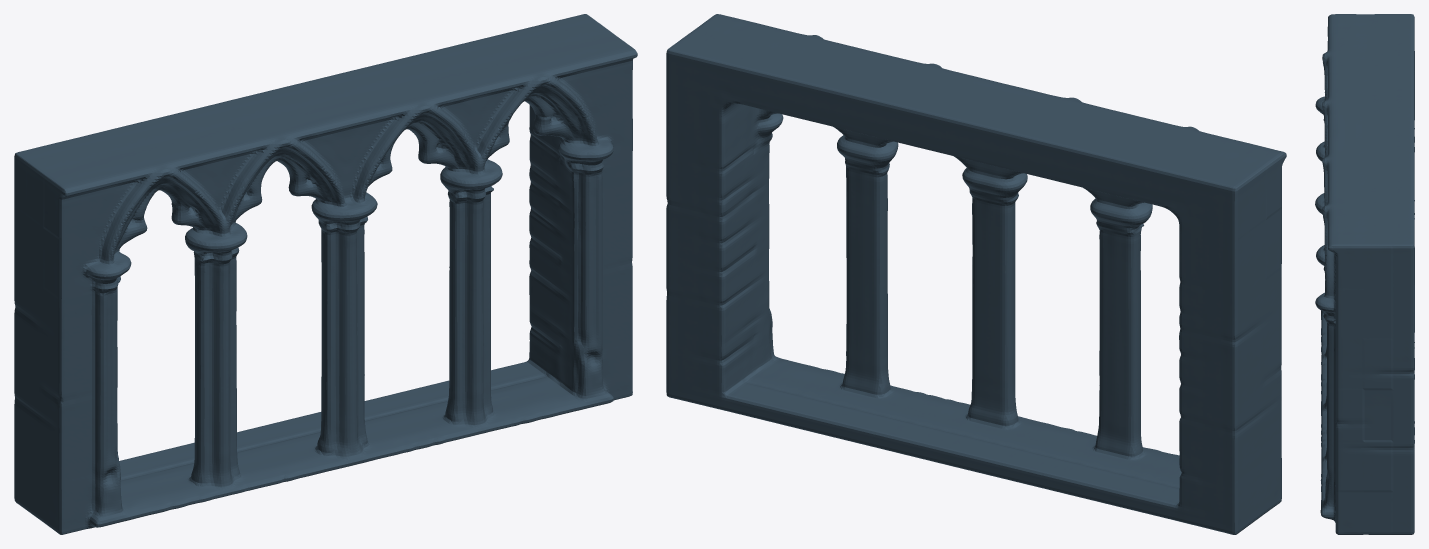
File: framic_bright_hunyuan_shape_only.glb
The picture shows the model from 3 angles, left to right: view 1: azimuth 30°, elevation 25°; view 2: azimuth 150°, elevation 25°; view 3: azimuth 270°, elevation 25°; orthographic projection. The views are drawn at different scales.
Parts seen in each view (by area): view 1: geometry_0; view 2: geometry_0; view 3: geometry_0.
Boxes of the visible parts, x1,y1,x2,y2 form: geometry_0: (14,14,637,534); geometry_0: (666,14,1286,534); geometry_0: (1315,14,1414,534).
Size of the model in its own units: 1.96 by 1.14 by 0.3558.
